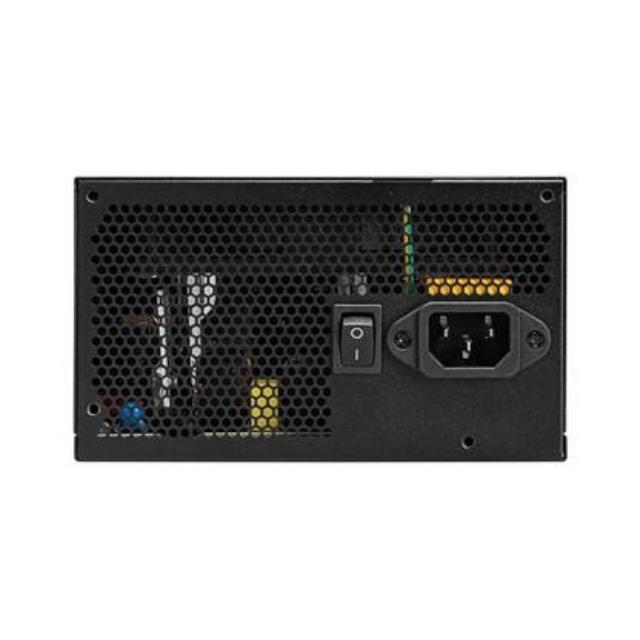PSU: (69, 169, 577, 477)
